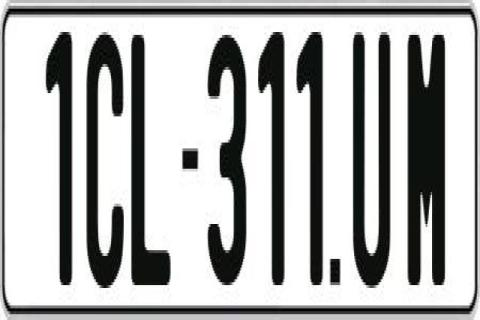0: (207, 35, 252, 285), (46, 23, 78, 276), (295, 32, 325, 285), (255, 32, 281, 302)
C: (85, 29, 125, 299)
L: (128, 26, 169, 291)
M: (407, 27, 447, 280)
U: (353, 23, 394, 285)
